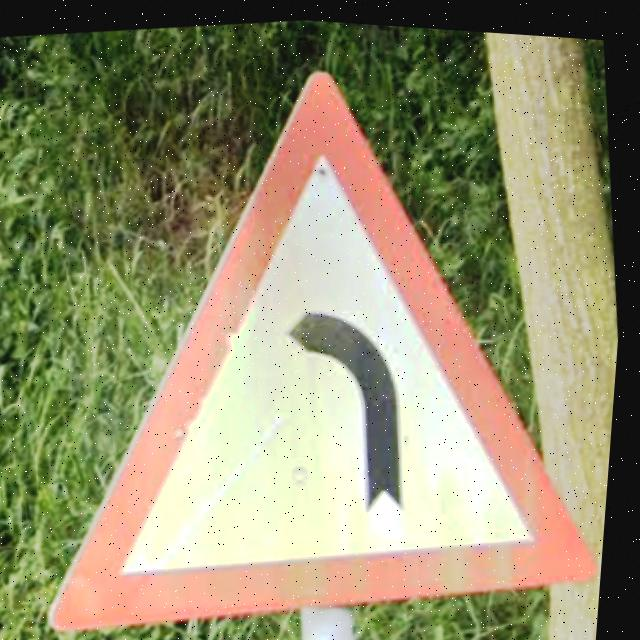leftbend: (59, 68, 607, 630)
